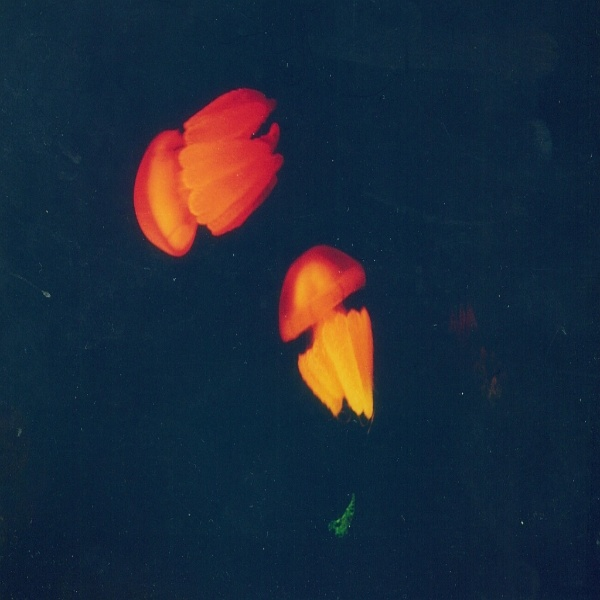Jellyfish: (132, 82, 284, 255), (274, 243, 375, 424)
